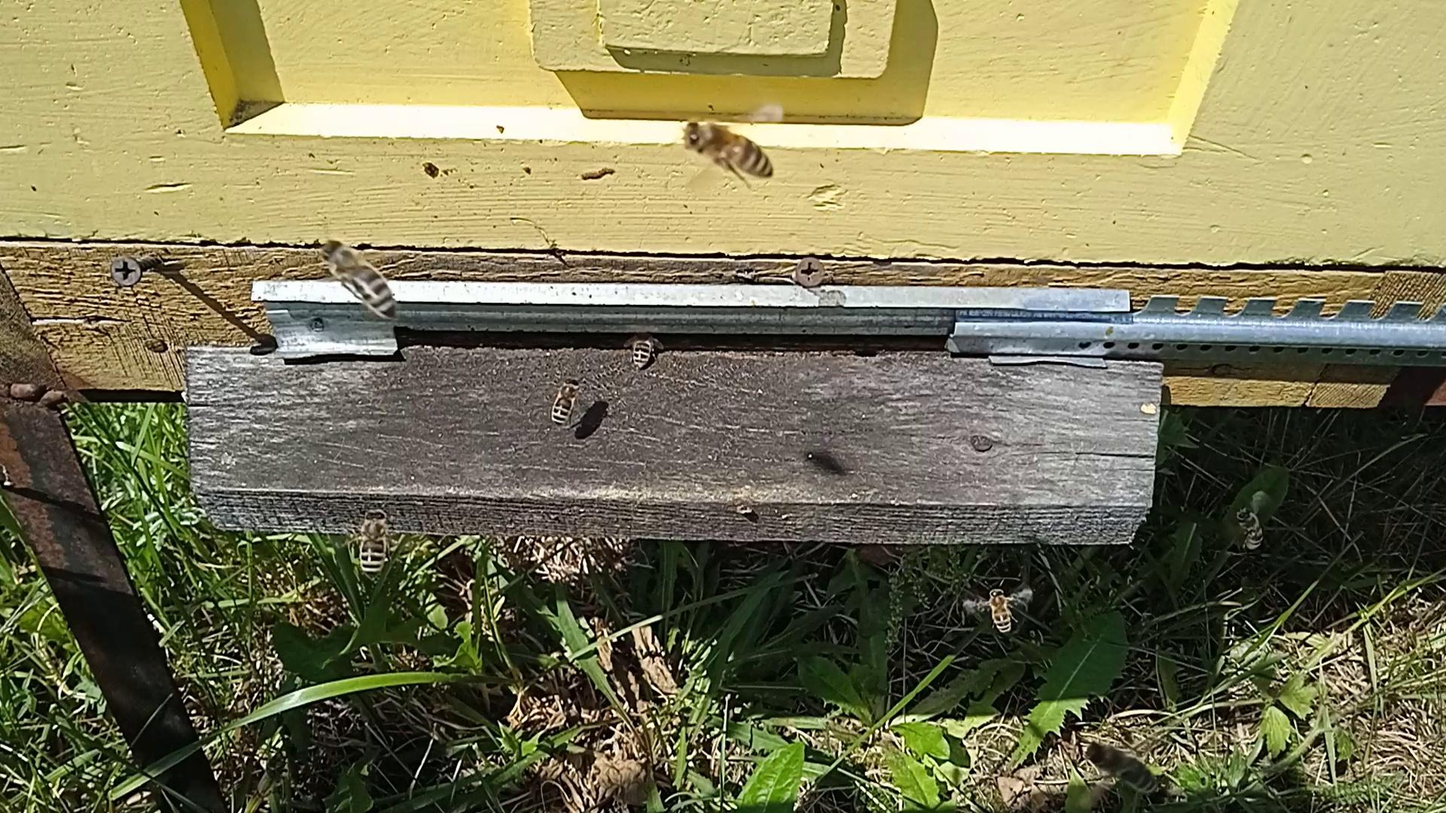worker-bee: (320, 239, 399, 321), (678, 118, 776, 183), (1080, 743, 1158, 795), (356, 507, 392, 580), (550, 377, 582, 426), (625, 331, 660, 370), (1235, 506, 1264, 553), (987, 586, 1014, 634)
